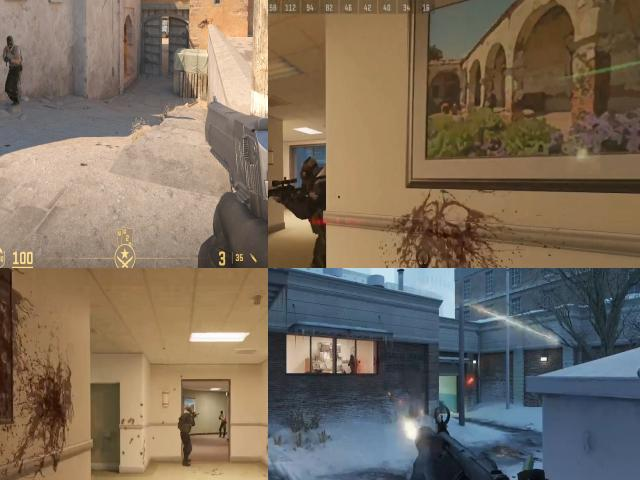CT: (284, 157, 326, 268), (174, 398, 196, 464), (349, 354, 356, 374)
CT-Head: (300, 151, 326, 197), (184, 404, 193, 417)
T: (5, 36, 21, 94), (218, 408, 228, 437)
T-Head: (7, 36, 15, 48), (220, 410, 226, 418)
